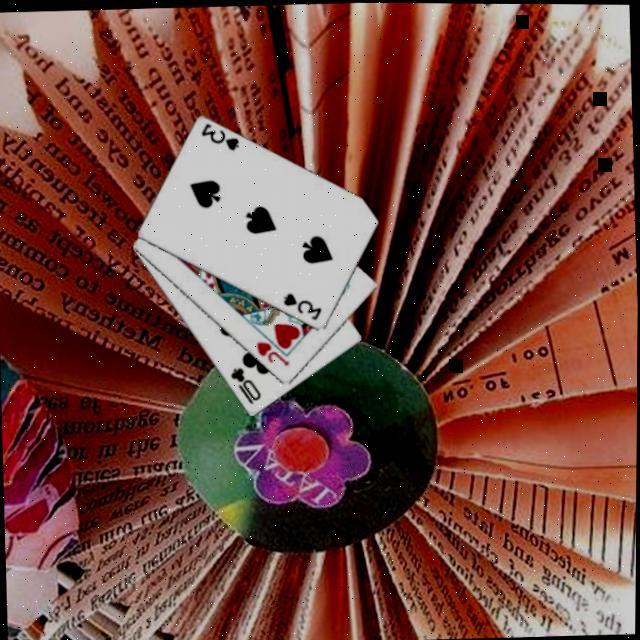10C: (225, 364, 262, 408)
3S: (278, 288, 323, 324), (195, 120, 240, 156)
JH: (252, 338, 290, 369)
